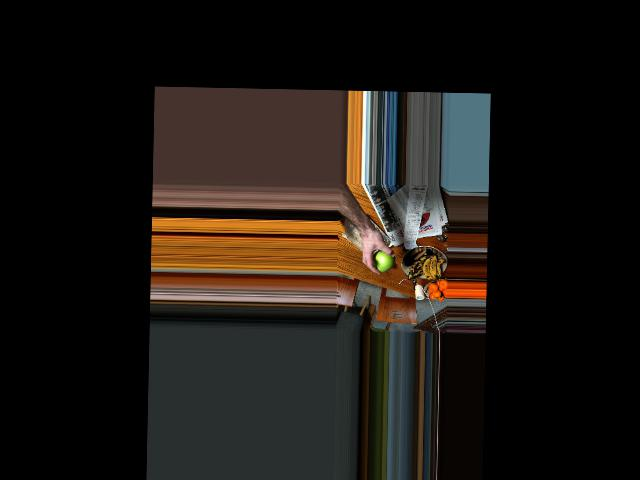apple: (370, 247, 394, 274)
